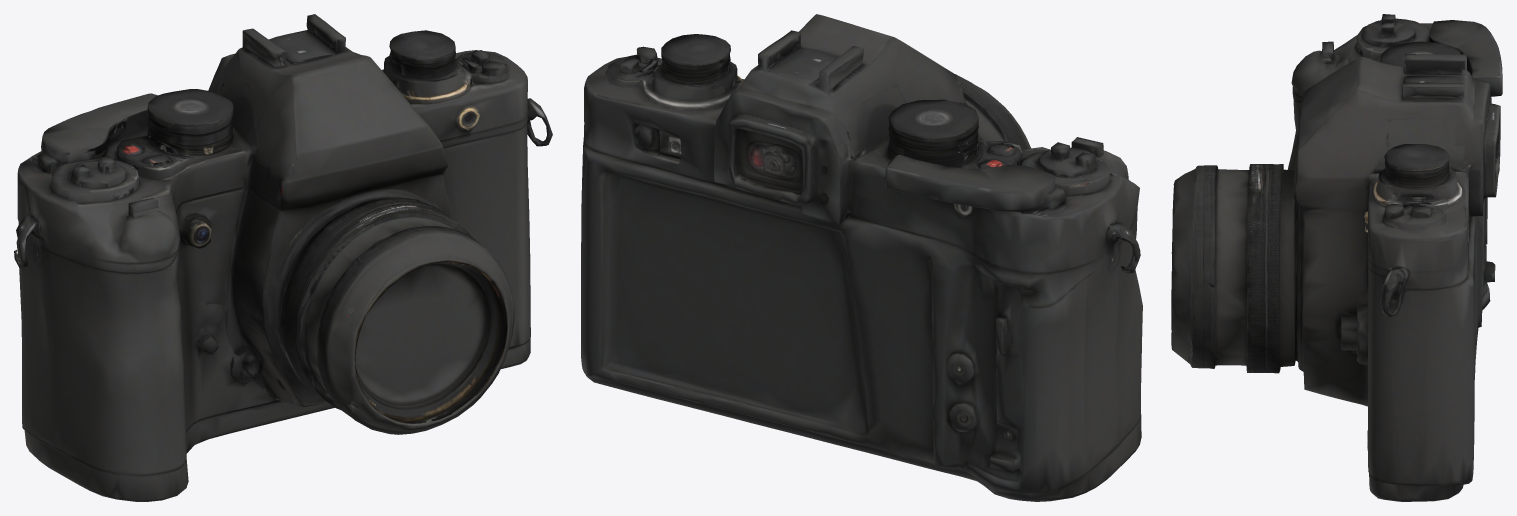
The model's file is camera_model.glb.
The picture shows the model from 3 angles, left to right: view 1: azimuth 30°, elevation 25°; view 2: azimuth 150°, elevation 25°; view 3: azimuth 270°, elevation 25°; orthographic projection. The views are drawn at different scales.
Size of the model in its own units: 2 by 1.3 by 1.15.
Materials: 1 (1 with a texture image).
